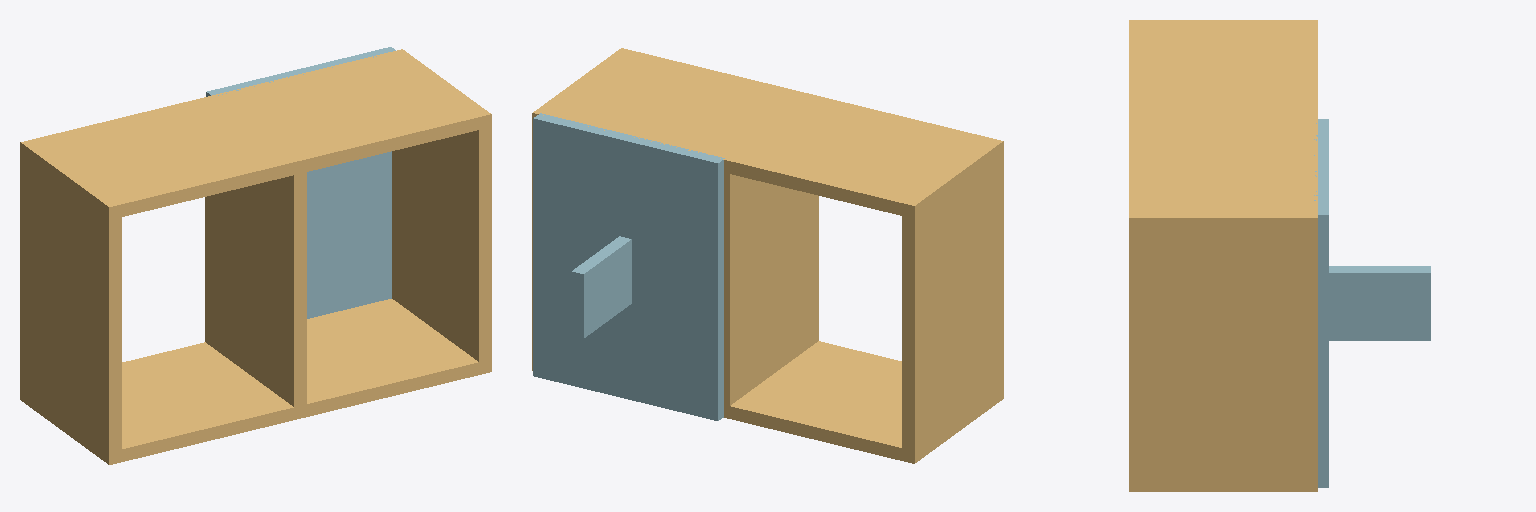
URDF robot description (slide_cabinet.urdf):
<?xml version="1.0" ?>
<robot name="slide_cabinet.urdf">
  <material name="Caramel">
    <color rgba=".95 .8 .54 1"/>
  </material>
  <material name="Glass">
    <color rgba=".66 .8 .84 .5"/>
  </material>
  <link name="base_link">
    <contact>
      <lateral_friction value="1.0"/>
    </contact>
    <inertial>
      <origin rpy="0 0 0" xyz="0 0 0"/>
      <mass value=".0"/>
      <inertia ixx="1" ixy="0" ixz="0" iyy="1" iyz="0" izz="1"/>
    </inertial>
    <visual>
      <origin rpy="0 0 0" xyz=".3 0 0"/>
      <geometry>
				<box size=".02 .25 .4"/>
      </geometry>
      <material name="Caramel"/>
    </visual>
    <collision>
      <origin rpy="0 0 0" xyz=".3 0 0"/>
      <geometry>
				<box size=".02 .25 .4"/>
      </geometry>
    </collision>

    <visual>
      <origin rpy="0 0 0" xyz="0 0 0"/>
      <geometry>
				<box size=".02 .25 .4"/>
      </geometry>
      <material name="Caramel"/>
    </visual>
    <collision>
      <origin rpy="0 0 0" xyz="0 0 0"/>
      <geometry>
				<box size=".02 .25 .4"/>
      </geometry>
    </collision>

    <visual>
      <origin rpy="0 0 0" xyz="-.3 0 0"/>
      <geometry>
				<box size=".02 .25 .4"/>
      </geometry>
      <material name="Caramel"/>
    </visual>
    <collision>
      <origin rpy="0 0 0" xyz="-.3 0 0"/>
      <geometry>
				<box size=".02 .25 .4"/>
      </geometry>
    </collision>

    <visual>
      <origin rpy="0 0 0" xyz="0 0 .19"/>
      <geometry>
				<box size=".6 .25 .02"/>
      </geometry>
      <material name="Caramel"/>
    </visual>
    <collision>
      <origin rpy="0 0 0" xyz="0 0 .19"/>
      <geometry>
				<box size=".6 .25 .02"/>
      </geometry>
    </collision>

    <visual>
      <origin rpy="0 0 0" xyz="0 0 -.19"/>
      <geometry>
				<box size=".6 .25 .02"/>
      </geometry>
      <material name="Caramel"/>
    </visual>
    <collision>
      <origin rpy="0 0 0" xyz="0 0 -.19"/>
      <geometry>
				<box size=".6 .25 .02"/>
      </geometry>
    </collision>
  </link>

  <link name="door_link">
    <contact>
      <lateral_friction value="1.0"/>
    </contact>
    <inertial>
      <origin rpy="0 0 0" xyz="0 0 0"/>
      <mass value=".0"/>
      <inertia ixx="1" ixy="0" ixz="0" iyy="1" iyz="0" izz="1"/>
    </inertial>
    <visual>
      <origin rpy="0 0 0" xyz=".15 .13 0"/>
      <geometry>
				<box size=".3 .02 .4"/>
      </geometry>
      <material name="Glass"/>
    </visual>
    <collision>
      <origin rpy="0 0 0" xyz=".15 .13 0"/>
      <geometry>
				<box size=".3 .02 .4"/>
      </geometry>
    </collision>
  </link>
  <link name="handle_link">
    <contact>
      <lateral_friction value="1.0"/>
    </contact>
    <inertial>
      <origin rpy="0 0 0" xyz="0 0 0"/>
      <mass value=".0"/>
      <inertia ixx="1" ixy="0" ixz="0" iyy="1" iyz="0" izz="1"/>
    </inertial>
    <visual>
      <origin rpy="0 0 0" xyz=".15 .2 0"/>
      <geometry>
				<box size=".02 .15 .1"/>
      </geometry>
      <material name="Glass"/>
    </visual>
    <collision>
      <origin rpy="0 0 0" xyz=".15 .2 0"/>
      <geometry>
				<box size=".02 .15 .1"/>
      </geometry>
    </collision>
  </link>
  <joint name="slide" type="prismatic">
    <parent link="base_link"/>
    <child link="door_link"/>
    <origin xyz="0 0 0" rpy="0 0 0"/>
    <axis xyz="1 0 0"/>
    <limit lower="-.5" upper="0" effort=".01" velocity="100"/>
  </joint>
  <joint name="handle" type="fixed">
    <parent link="door_link"/>
    <child link="handle_link"/>
    <origin xyz="0 0 0" rpy="0 0 0"/>
  </joint>
</robot>

--- Facts derived from the render (not from the file) ---
The picture shows the robot from 3 angles, left to right: view 1: azimuth 30°, elevation 25°; view 2: azimuth 150°, elevation 25°; view 3: azimuth 270°, elevation 25°; orthographic projection.
Robot: slide_cabinet.urdf — 3 links, 2 joints (1 prismatic, 1 fixed); root link base_link; default pose: every joint at zero.
Links seen in each view (by area): view 1: base_link, door_link; view 2: base_link, door_link, handle_link; view 3: base_link, handle_link, door_link.
Boxes of the visible links, x1,y1,x2,y2 form: base_link: (20, 49, 491, 464); door_link: (206, 47, 395, 318); base_link: (532, 48, 1003, 463); door_link: (533, 113, 724, 420); handle_link: (572, 236, 631, 338); base_link: (1129, 20, 1317, 491); handle_link: (1329, 266, 1430, 340); door_link: (1314, 119, 1328, 487).
Size in the robot's own frame: 0.62 by 0.4 by 0.4 metres.
Geometry: primitives only (box / cylinder / sphere), no mesh files.
